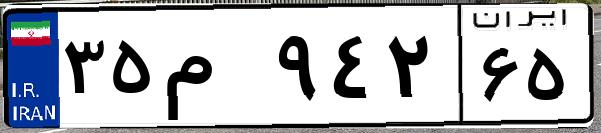2: (385, 28, 445, 110)
3: (57, 26, 110, 100)
4: (330, 28, 385, 110)
5: (525, 38, 570, 115), (110, 28, 158, 98)
6: (475, 38, 525, 113)
9: (270, 28, 330, 110)
م: (158, 20, 270, 120)
